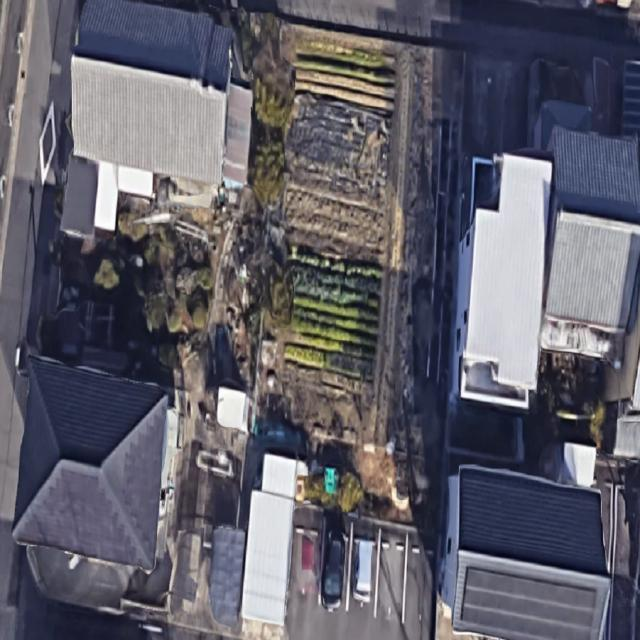Batiment: (71, 0, 252, 186), (12, 357, 168, 569), (441, 466, 610, 639), (454, 155, 552, 408), (541, 125, 640, 368), (242, 453, 308, 625)
